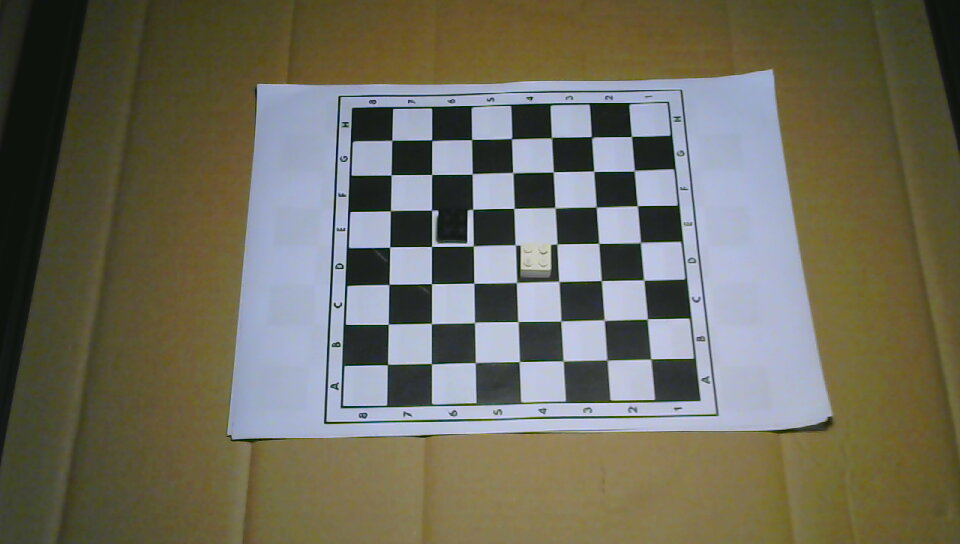bp: (436, 206, 468, 244)
wp: (518, 241, 551, 278)
